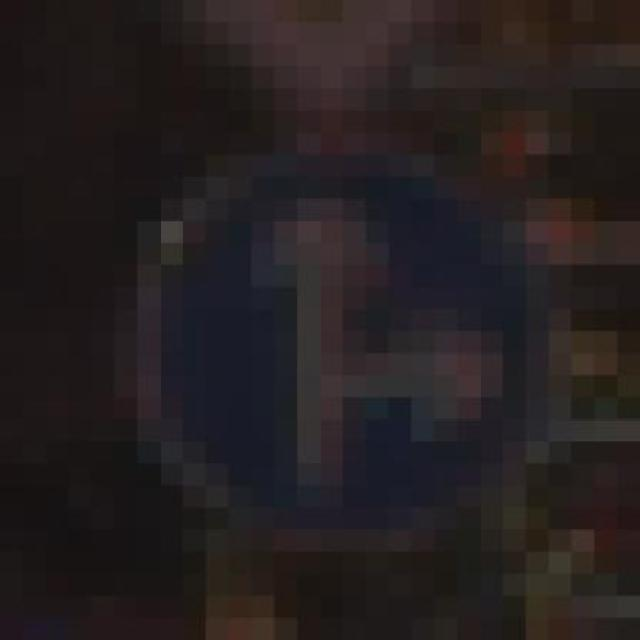Go Straight or Turn Right: (91, 110, 572, 552)
